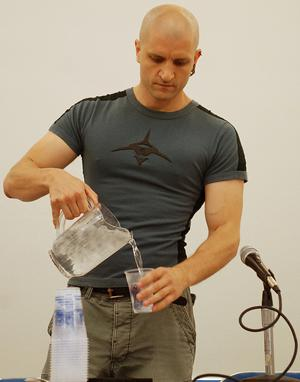person: (4, 3, 247, 380)
